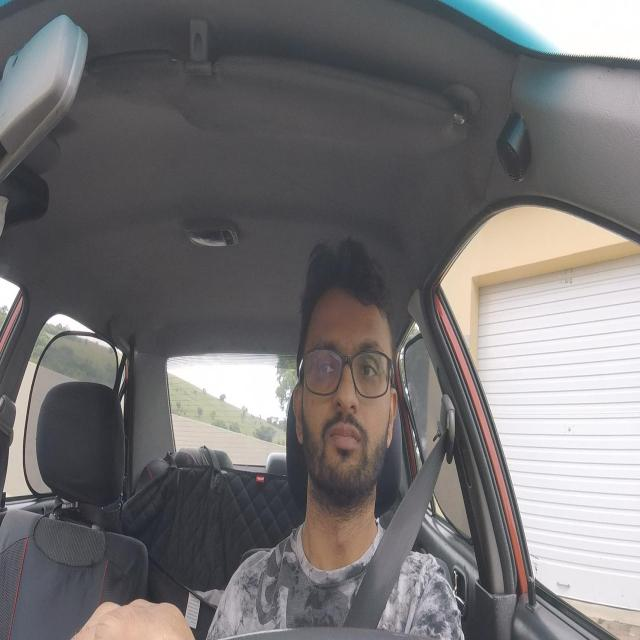open: (352, 331, 388, 403), (305, 336, 341, 399)
